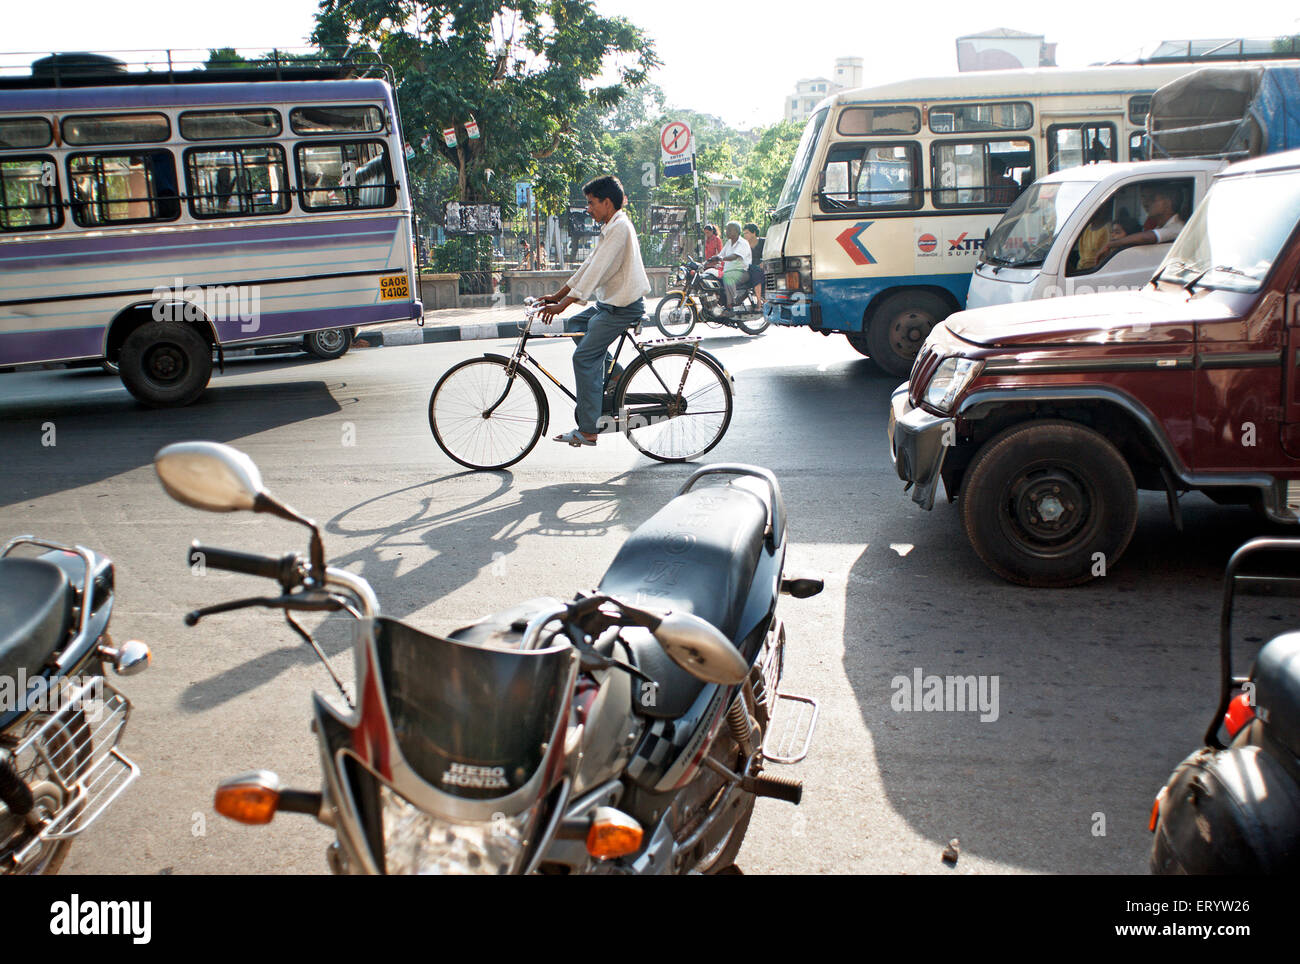bike: (153, 459, 824, 878), (659, 228, 772, 334)
bus: (775, 61, 1296, 317), (6, 85, 418, 386)
car: (916, 158, 1300, 579)
person: (577, 179, 648, 458)
